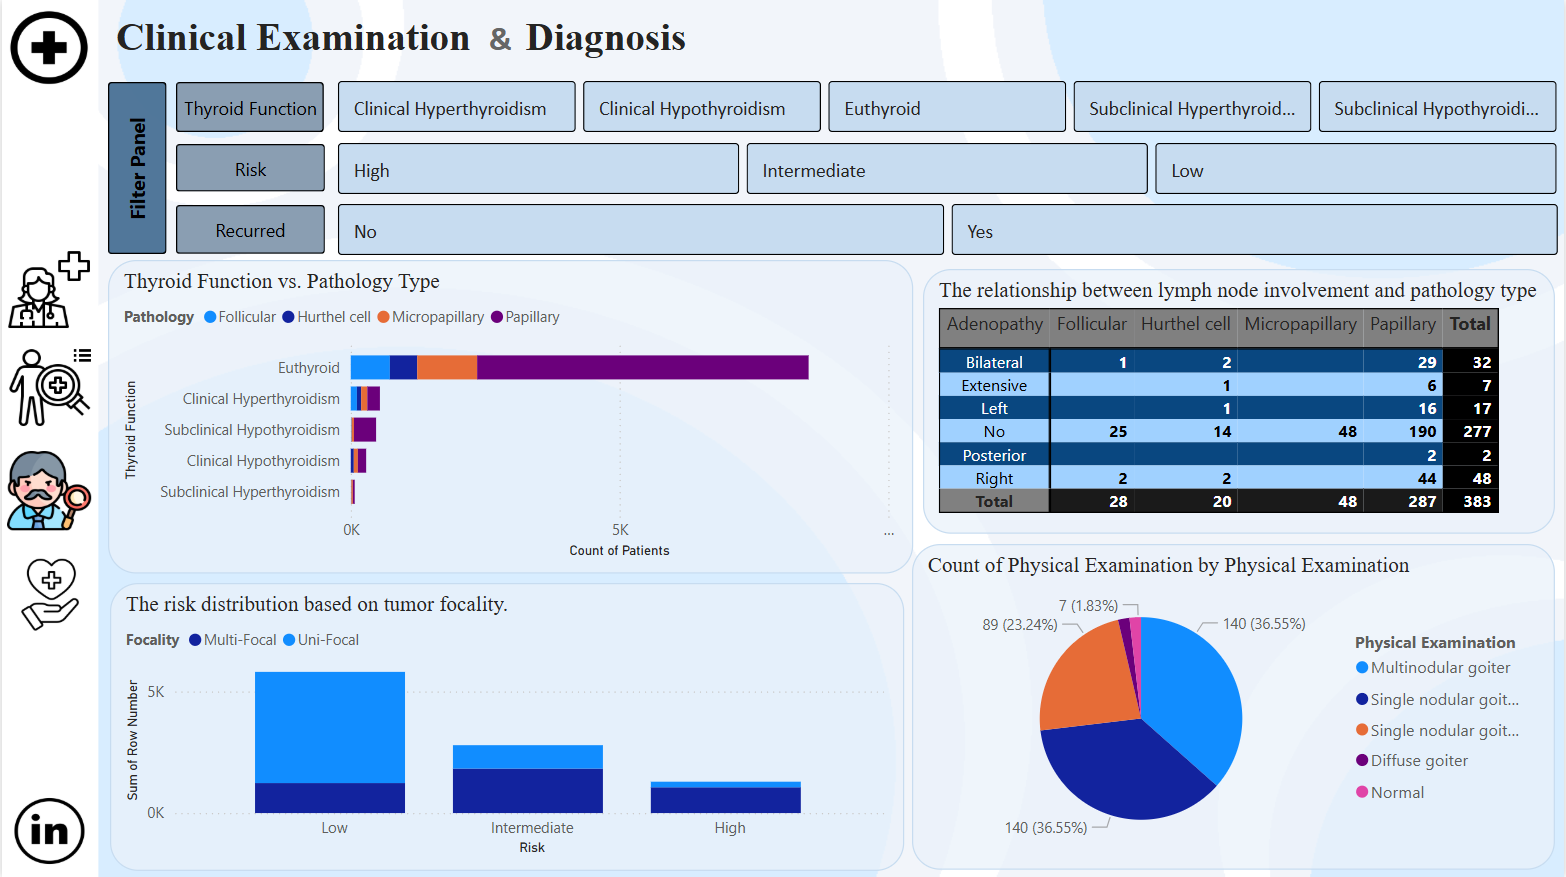

Layout of this report page (visuals, bound fields, positions):
{"tool":"powerbi","page":{"name":"Clinical Examination  &  Diagnosis","canvas":[1280,720],"ordinal":4},"visuals":[{"type":"barChart","title":"Thyroid Function vs. Pathology Type","fields":{"Category":["Thyroid_Diff.Thyroid Function"],"Y":["Sum(Thyroid_Diff.Row Number)"],"Series":["Thyroid_Diff.Pathology"]},"box":[86.5,213.5,659.6,256.7],"z":0},{"type":"columnChart","title":"The risk distribution based on tumor focality.","fields":{"Category":["Thyroid_Diff.Risk"],"Y":["Sum(Thyroid_Diff.Row Number)"],"Series":["Thyroid_Diff.Focality"]},"box":[88.5,477.9,651,235.6],"z":1000},{"type":"pieChart","fields":{"Category":["Thyroid_Diff.Physical Examination"],"Y":["CountNonNull(Thyroid_Diff.Physical Examination)"]},"box":[746.2,446.2,526.9,267.3],"z":2000},{"type":"pivotTable","title":"The relationship between lymph node involvement and pathology type","fields":{"Rows":["Thyroid_Diff.Adenopathy"],"Columns":["Thyroid_Diff.Pathology"],"Values":["CountNonNull(Thyroid_Diff.Row Number)"]},"box":[754.8,220.2,518.3,217.3],"z":3000},{"type":"advancedSlicerVisual","fields":{"Values":["Thyroid_Diff.Thyroid Function"]},"box":[271.2,62.5,1008.7,51],"z":4000},{"type":"shape","box":[142.3,67.3,122.1,41.3],"z":5000},{"type":"advancedSlicerVisual","fields":{"Values":["Thyroid_Diff.Risk"]},"box":[271.2,113.5,1008.7,50],"z":6000},{"type":"shape","box":[142.3,118.3,122.1,39.4],"z":7000},{"type":"advancedSlicerVisual","fields":{"Values":["Thyroid_Diff.Recurred"]},"box":[271.2,163.5,1008.7,50],"z":8000},{"type":"shape","box":[142.3,168.3,122.1,40.4],"z":9000},{"type":"shape","box":[86.5,67.3,48.1,141.3],"z":10000},{"type":"shape","box":[0,0,79,719.8],"z":11000},{"type":"textbox","box":[88.5,7.7,576.9,59.6],"z":12000},{"type":"image","box":[4.8,454.8,69.2,65.4],"z":13000},{"type":"image","box":[4.8,285.6,69.2,65.4],"z":14000},{"type":"image","box":[4,370,69,65],"z":15000},{"type":"image","box":[4,205,69.2,65.4],"z":16000},{"type":"image","box":[3.8,6.7,69.2,65.4],"z":17000},{"type":"image","box":[4.9,649.2,68,63.9],"z":17001}]}

Visuals, with their boxes in screenshot pixels (x1, y1, x2, y2), scaled from the page's 1280x720 canvas onto the 1566x877 screenshot:
"Thyroid Function vs. Pathology Type" barChart: detection(106, 260, 913, 573)
"The risk distribution based on tumor focality." columnChart: detection(108, 582, 905, 869)
pieChart - Thyroid_Diff.Physical Examination x CountNonNull(Thyroid_Diff.Physical Examination): detection(913, 543, 1558, 869)
"The relationship between lymph node involvement and pathology type" pivotTable: detection(923, 268, 1558, 533)
advancedSlicerVisual - Thyroid_Diff.Thyroid Function: detection(332, 76, 1565, 138)
shape: detection(174, 82, 323, 132)
advancedSlicerVisual - Thyroid_Diff.Risk: detection(332, 138, 1565, 199)
shape: detection(174, 144, 323, 192)
advancedSlicerVisual - Thyroid_Diff.Recurred: detection(332, 199, 1565, 260)
shape: detection(174, 205, 323, 254)
shape: detection(106, 82, 165, 254)
shape: detection(0, 0, 97, 876)
textbox: detection(108, 9, 814, 82)
image: detection(6, 554, 91, 634)
image: detection(6, 348, 91, 428)
image: detection(5, 451, 89, 530)
image: detection(5, 250, 90, 329)
image: detection(5, 8, 89, 88)
image: detection(6, 791, 89, 869)
